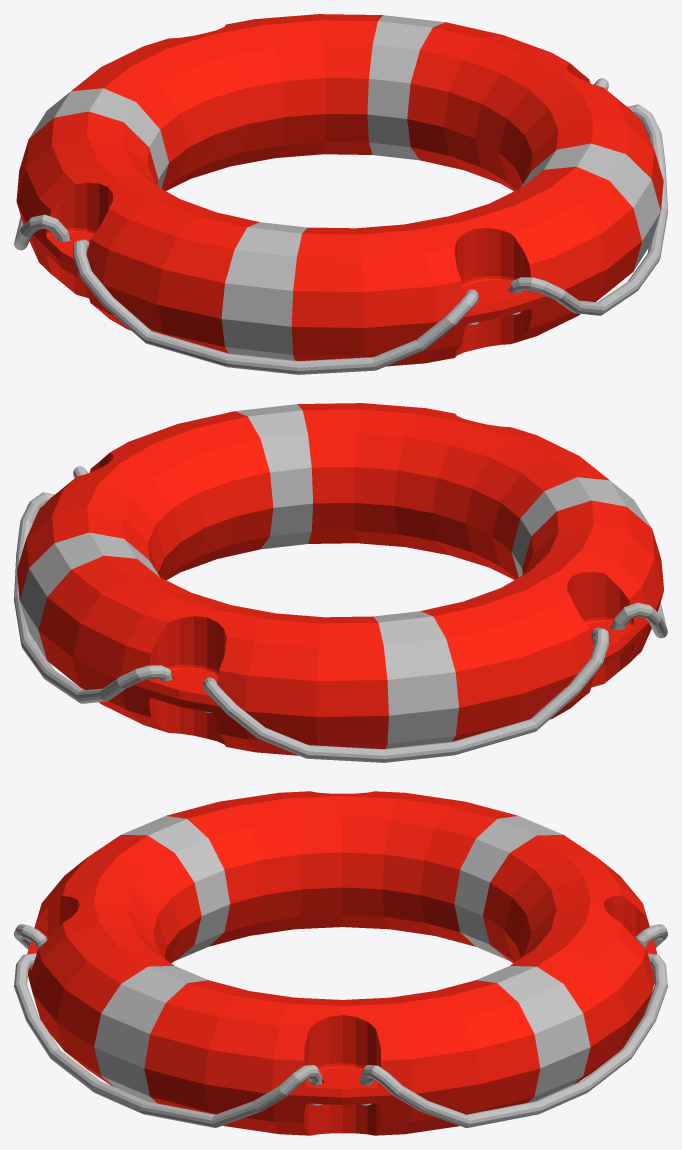
Rendered from bouée.fbx.
3 renders of one model, top to bottom at view 1: azimuth 30°, elevation 25°; view 2: azimuth 150°, elevation 25°; view 3: azimuth 270°, elevation 25°, orthographic. The views are drawn at different scales.
Visible parts, largest first — view 1: w; view 2: w; view 3: w.
Part boxes in pixels (x1,y1,x2,y2): w: (14,14,667,374); w: (14,403,667,762); w: (14,791,667,1135).
Size of the model in its own units: 29.03 by 6.09 by 28.91.
